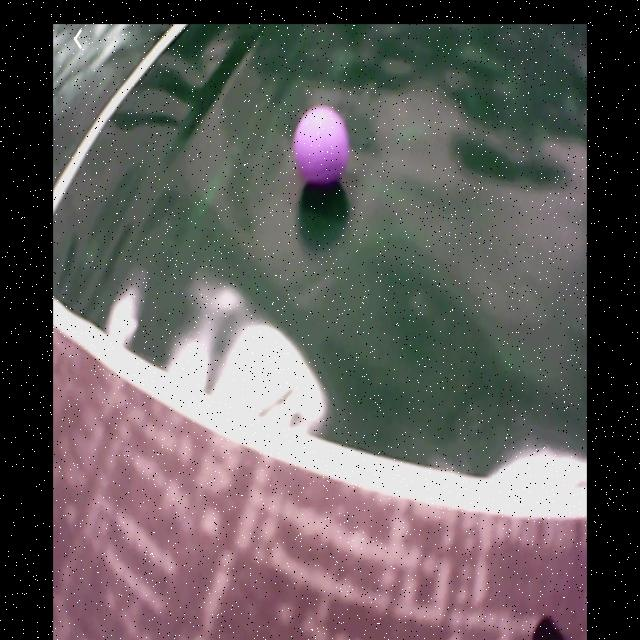ball: (293, 105, 350, 186)
